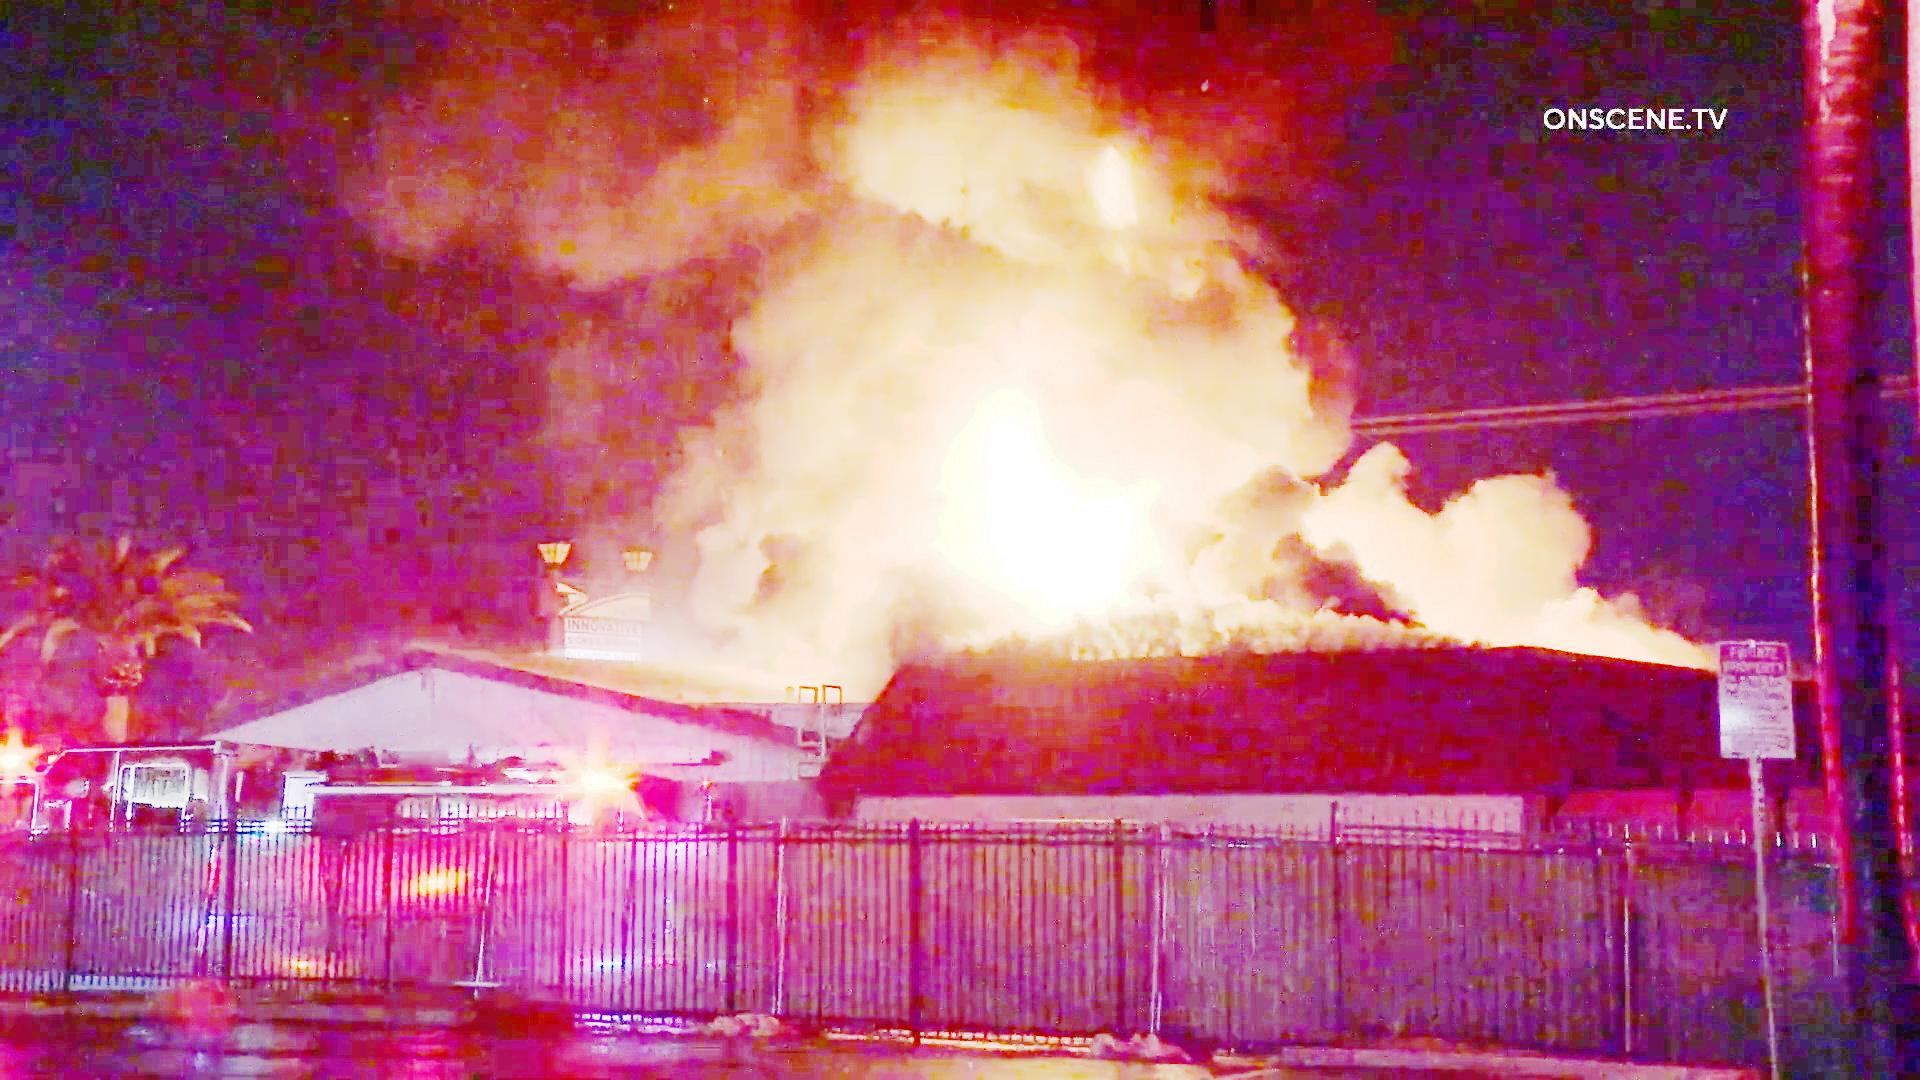fire: (940, 407, 1145, 633)
smoke: (396, 18, 1276, 278), (688, 30, 934, 654), (1180, 281, 1391, 630)
